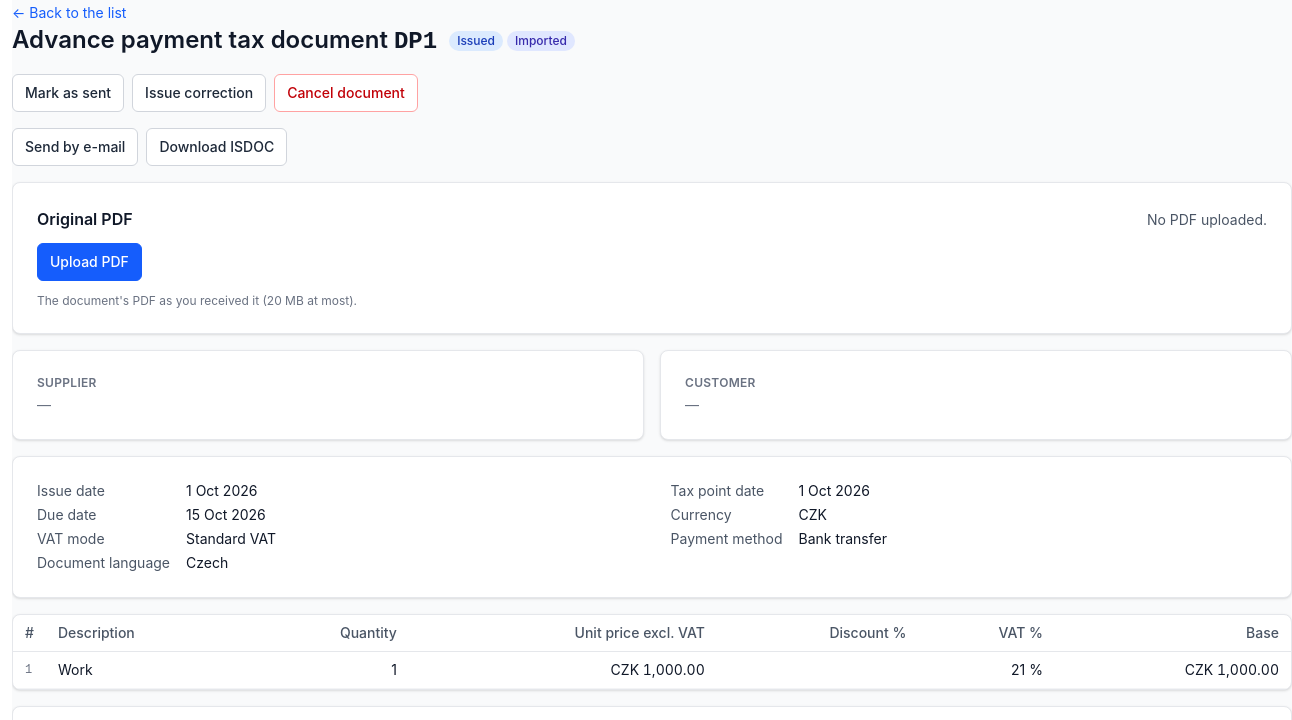
correction actions (1f-a) › cancelling an imported DDPP refused with 409 advance_in_use names the causes
The image size is (1292, 720).
Click the button with test id "cancel" at (346, 93), box [274,74,418,112]
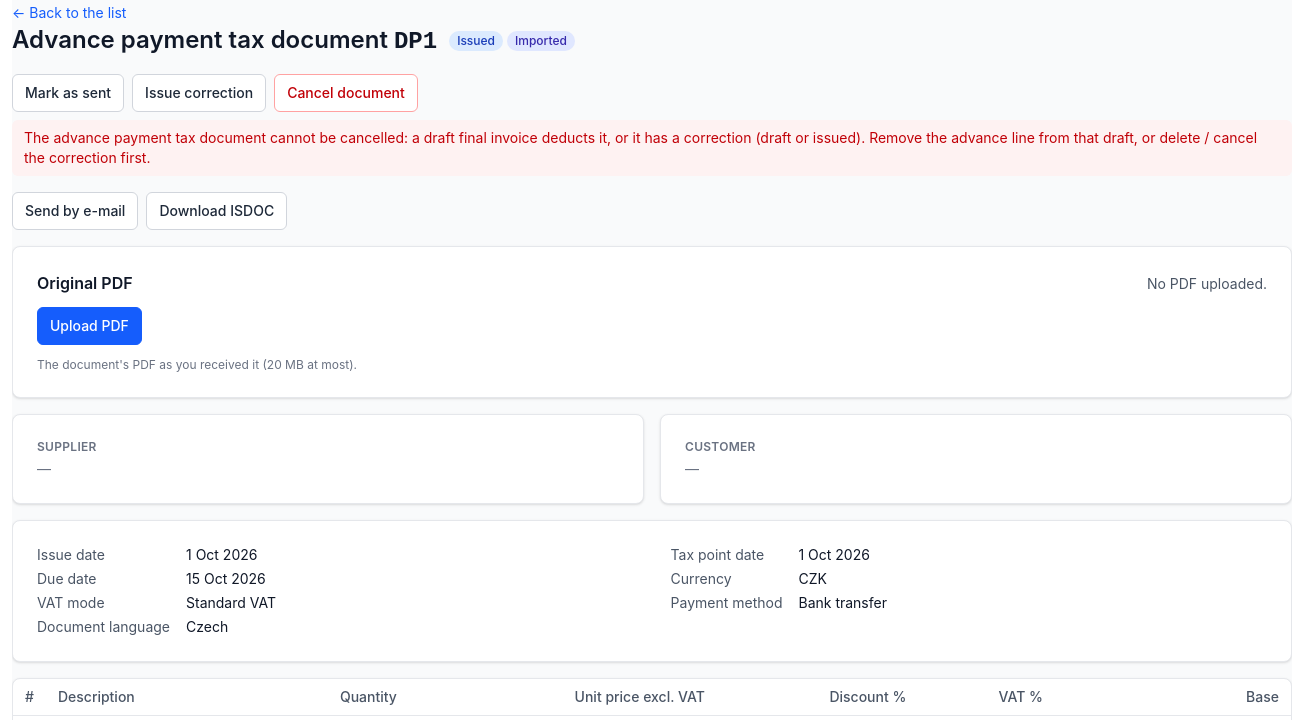
Now the message with test id "action-error" shows "draft final invoice", box [24,129,1257,166]
Now the message with test id "action-error" shows "correction", box [24,129,1257,166]
